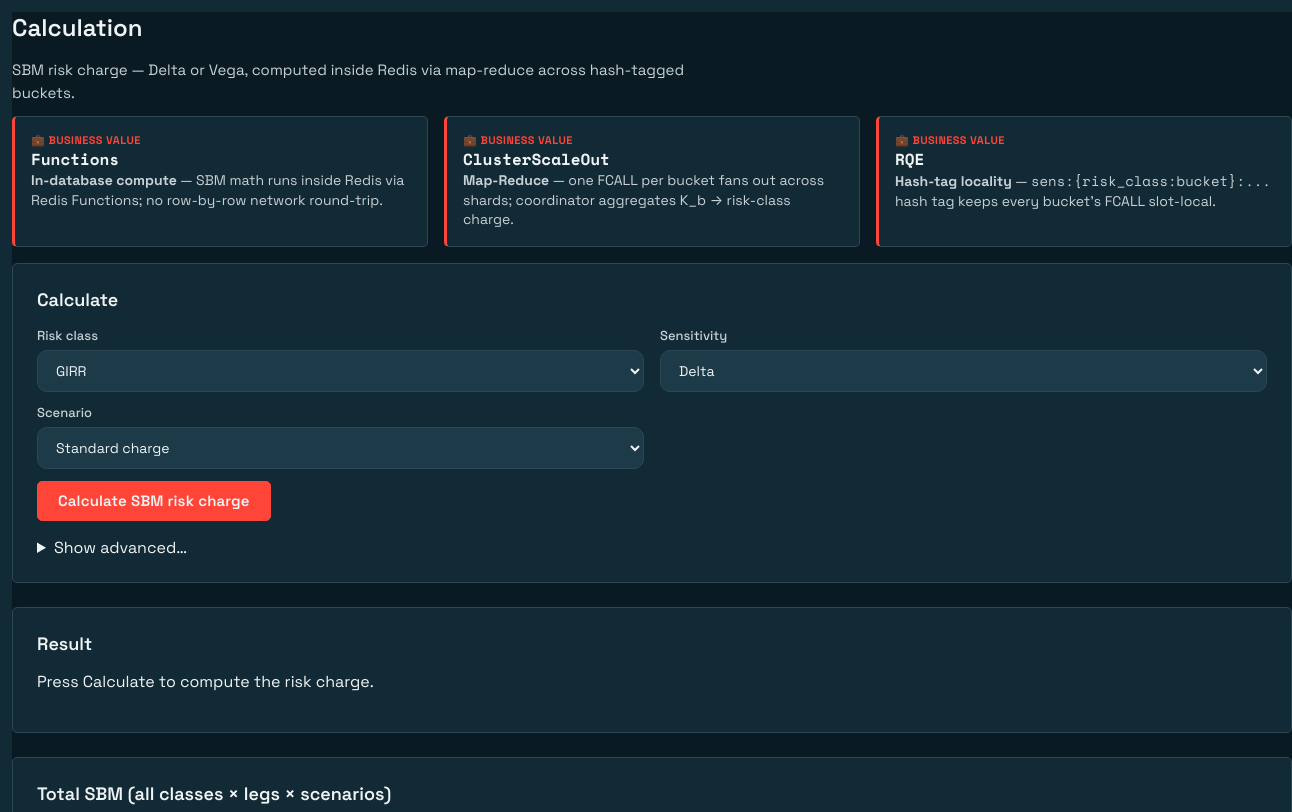
Test case: Wave 5.31a — Calc bucket-subset refine row › renders the Refine buckets row with one pill per bucket sorted by K_b descending
Click the button "Calculate SBM risk charge" at (154,501), box [37,481,271,521]
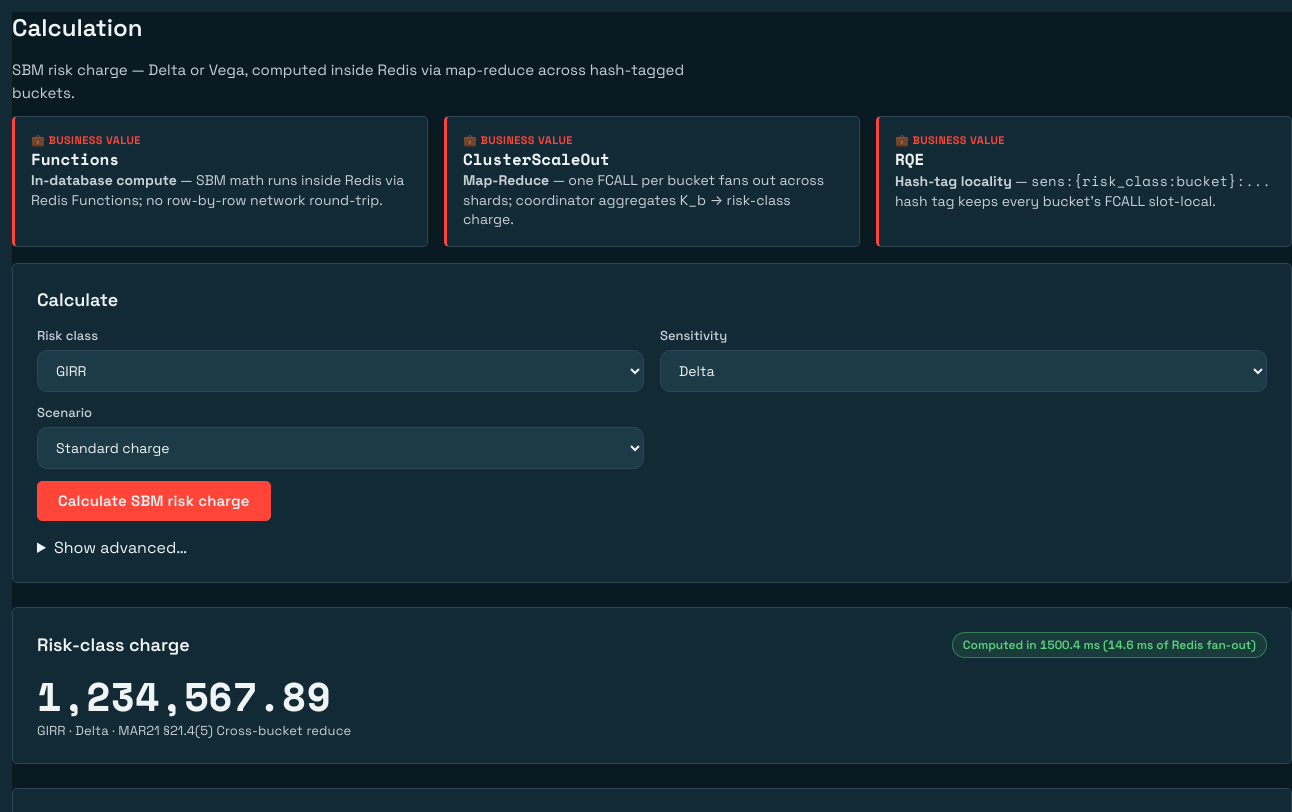
expect the text "1,234,567.89" is shown: met, box [37,674,331,718]
